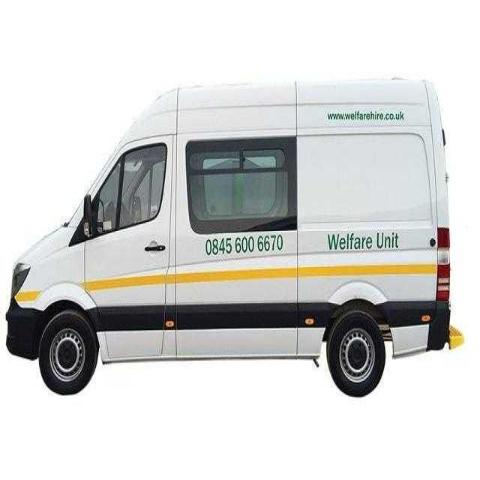van: (5, 76, 464, 399)
